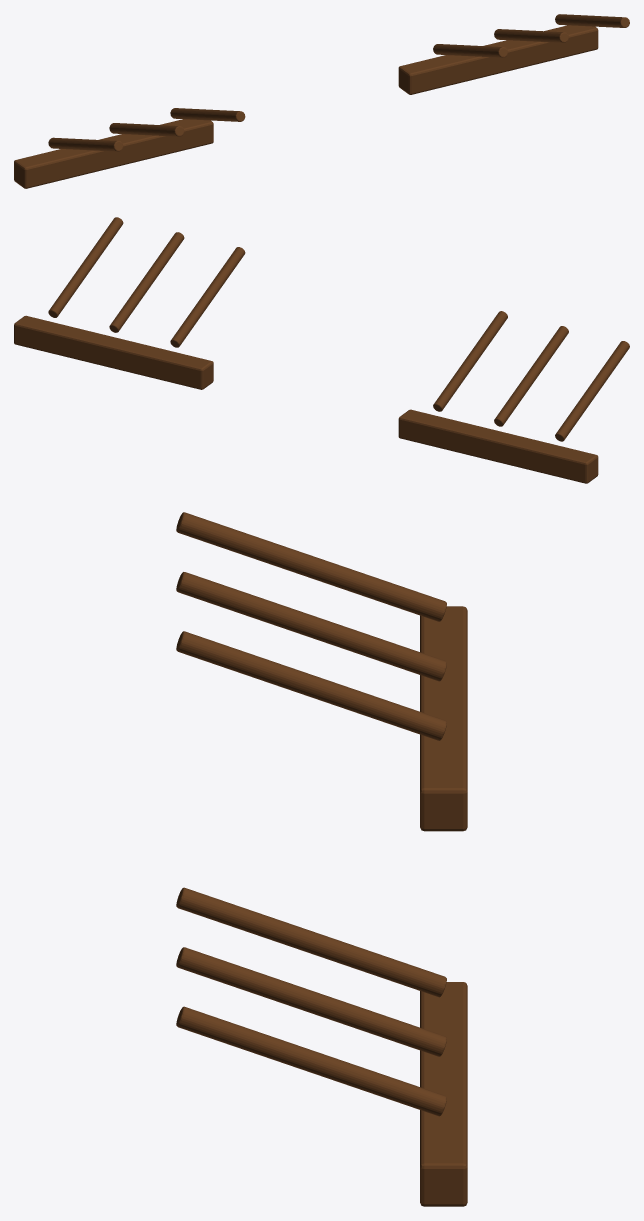
File: anti_cavalry_stakes_gap_LOD1.glb
The picture shows the model from 3 angles, top to bottom: view 1: azimuth 30°, elevation 25°; view 2: azimuth 150°, elevation 25°; view 3: azimuth 270°, elevation 25°; orthographic projection. The views are drawn at different scales.
Parts seen in each view (by area): view 1: LOD1_Base.001, LOD1_Base, LOD1_Stake, LOD1_Stake.002, LOD1_Stake.001, LOD1_Stake.003, LOD1_Stake.005, LOD1_Stake.004; view 2: LOD1_Base, LOD1_Base.001, LOD1_Stake.003, LOD1_Stake.001, LOD1_Stake.002, LOD1_Stake.004, LOD1_Stake.005, LOD1_Stake; view 3: LOD1_Base, LOD1_Base.001, LOD1_Stake.005, LOD1_Stake.001, LOD1_Stake.003, LOD1_Stake, LOD1_Stake.004, LOD1_Stake.002.
Boxes of the visible parts, x1,y1,x2,y2 form: LOD1_Base.001: (398,25,598,94); LOD1_Base: (14,119,213,188); LOD1_Stake: (48,137,123,151); LOD1_Stake.002: (170,108,245,121); LOD1_Stake.001: (109,123,184,136); LOD1_Stake.003: (433,44,507,57); LOD1_Stake.005: (555,14,629,27); LOD1_Stake.004: (494,29,568,42); LOD1_Base: (398,409,598,483); LOD1_Base.001: (14,315,213,389); LOD1_Stake.003: (170,247,245,347); LOD1_Stake.001: (494,326,568,426); LOD1_Stake.002: (433,311,507,411); LOD1_Stake.004: (109,232,184,332); LOD1_Stake.005: (48,217,123,317); LOD1_Stake: (555,341,629,441); LOD1_Base: (420,606,467,831); LOD1_Base.001: (420,982,467,1206); LOD1_Stake.005: (176,1006,446,1116); LOD1_Stake.001: (176,572,446,681); LOD1_Stake.003: (176,887,446,997); LOD1_Stake: (176,512,446,621); LOD1_Stake.004: (176,947,446,1056); LOD1_Stake.002: (176,631,446,740).
Bounding box in the file's own units: 6.12 × 0.8542 × 1.34.
